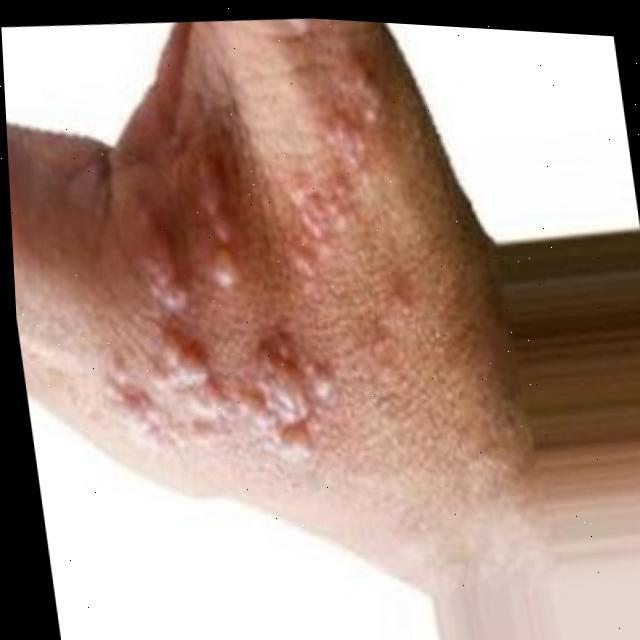Shingles: (90, 233, 344, 478)
